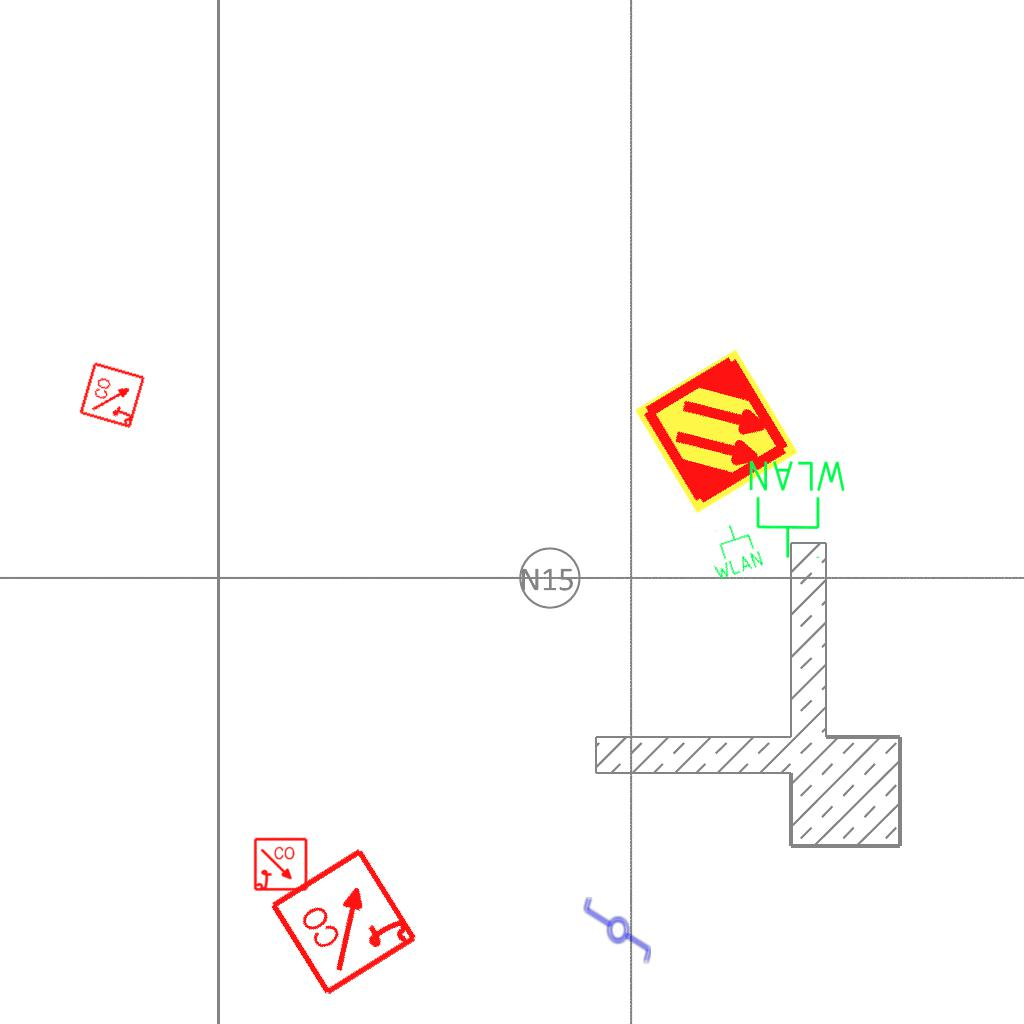ASR_Ansaugrauchmelder: (630, 345, 803, 518)
ROA_Rauchmelder_optisch_mit_Signalgeber_(Sockelsirene): (266, 842, 423, 999), (78, 360, 148, 430), (253, 837, 309, 893)
WLAN: (745, 457, 850, 561), (699, 516, 767, 584)
Wechselschalter: (581, 895, 653, 973)
